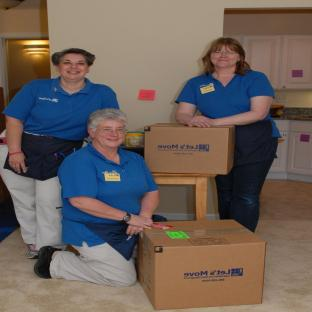Human: (0, 48, 159, 287), (176, 38, 279, 231)
